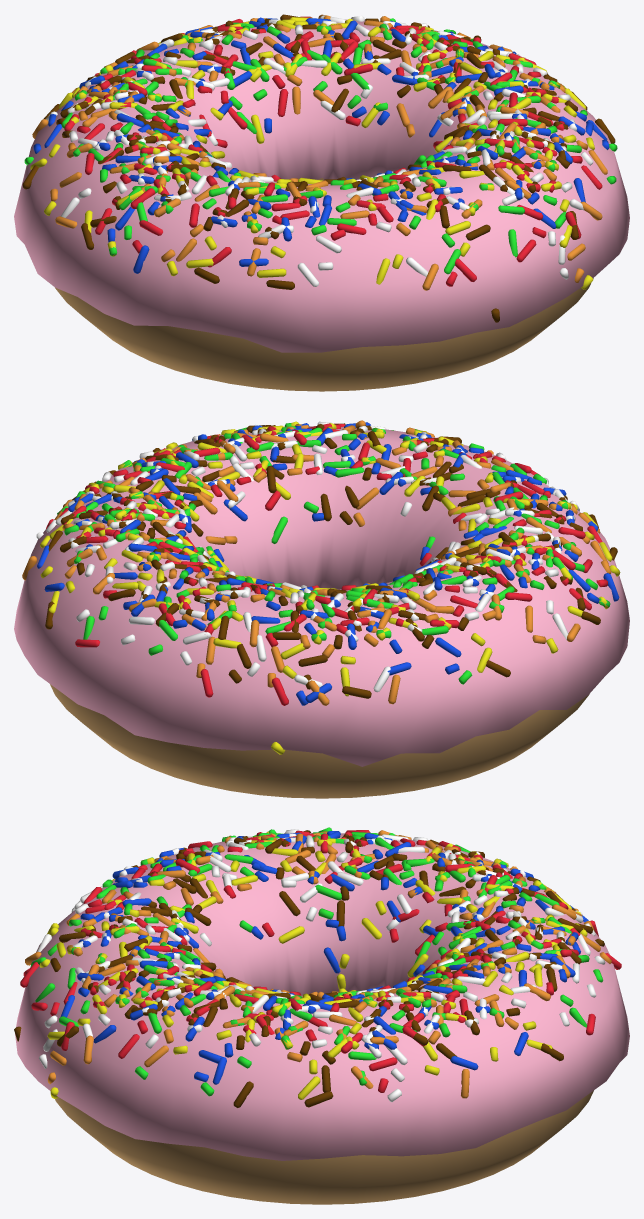
The model's file is donut.glb.
3 views of the same model, one above another, from view 1: azimuth 30°, elevation 25°; view 2: azimuth 150°, elevation 25°; view 3: azimuth 270°, elevation 25° (orthographic).
Visible parts, largest first — view 1: Icing, Donut; view 2: Icing, Donut; view 3: Icing, Donut.
Part boxes in pixels (bbox=[...]): Icing: bbox=[14, 19, 629, 352]; Donut: bbox=[55, 178, 593, 391]; Icing: bbox=[14, 426, 629, 766]; Donut: bbox=[50, 684, 589, 798]; Icing: bbox=[15, 833, 629, 1160]; Donut: bbox=[55, 1090, 593, 1204].
Bounding box in the file's own units: 3.17 × 1.11 × 3.18.
